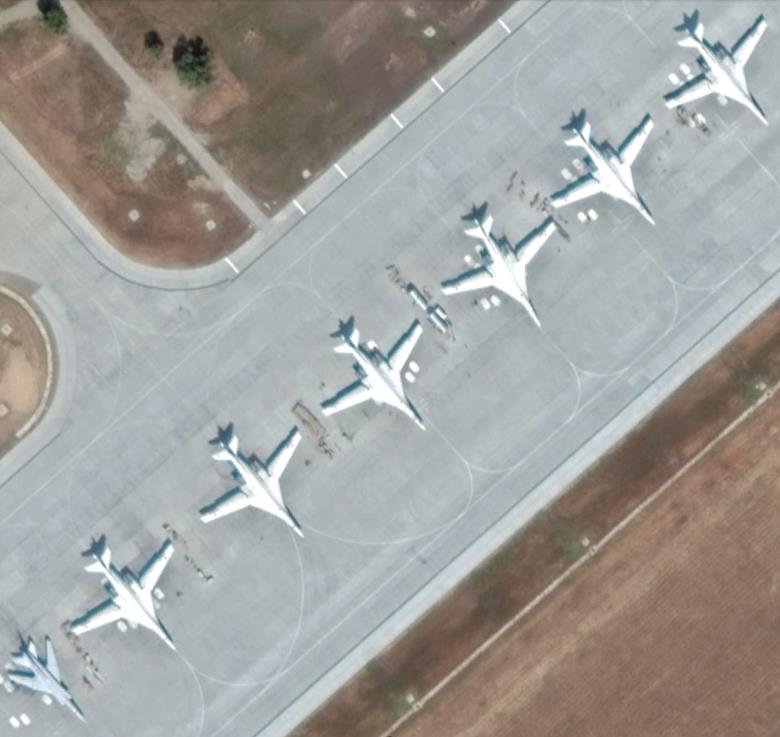A12: (6, 636, 88, 729)
A6: (440, 213, 560, 336), (550, 112, 663, 234), (67, 538, 182, 657), (319, 318, 432, 437), (198, 425, 308, 541), (663, 12, 772, 128)
